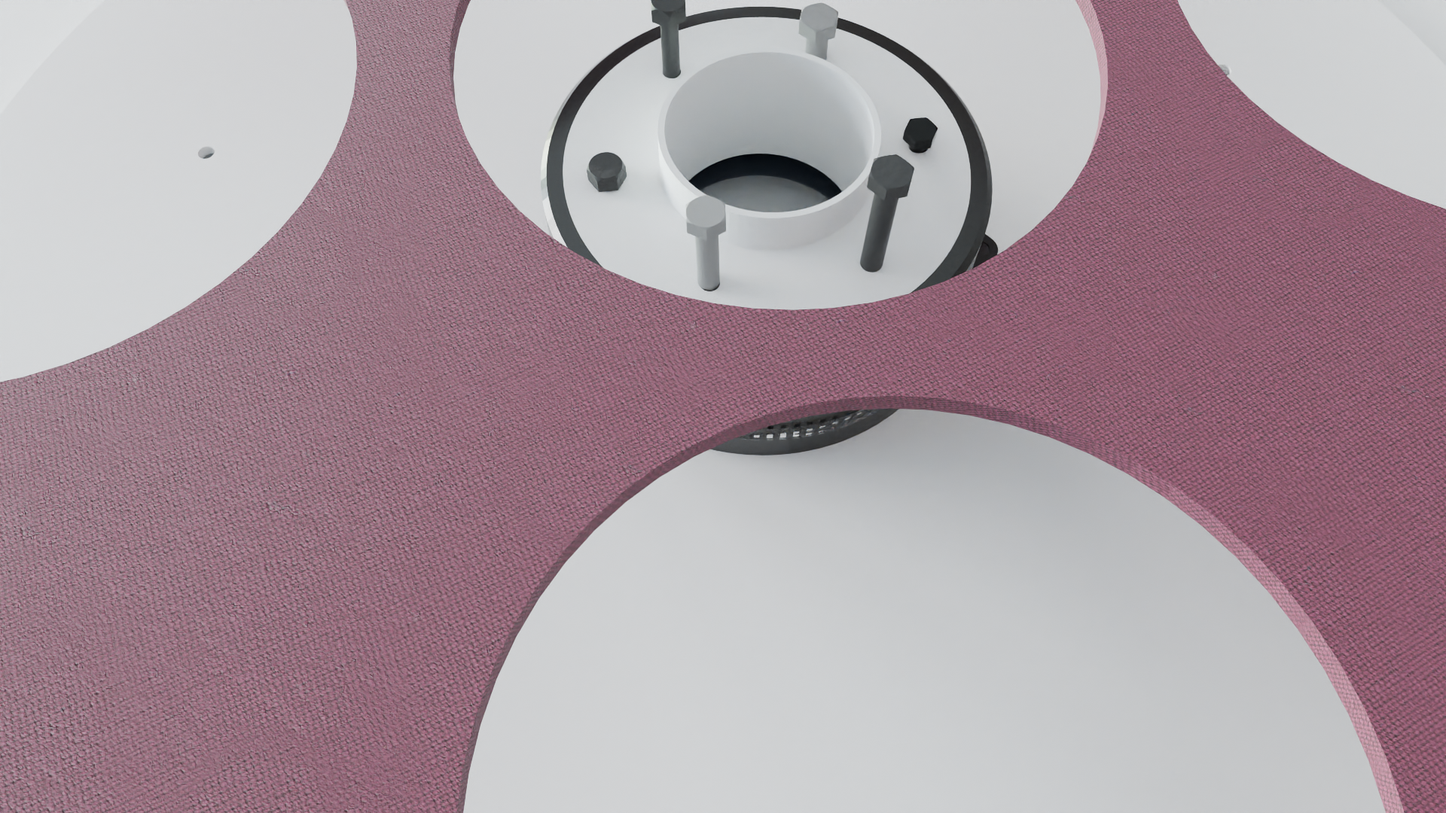bolt: (869, 154, 914, 190), (685, 195, 726, 231), (799, 2, 838, 32), (587, 152, 625, 182), (905, 117, 938, 142), (651, 0, 685, 17)
